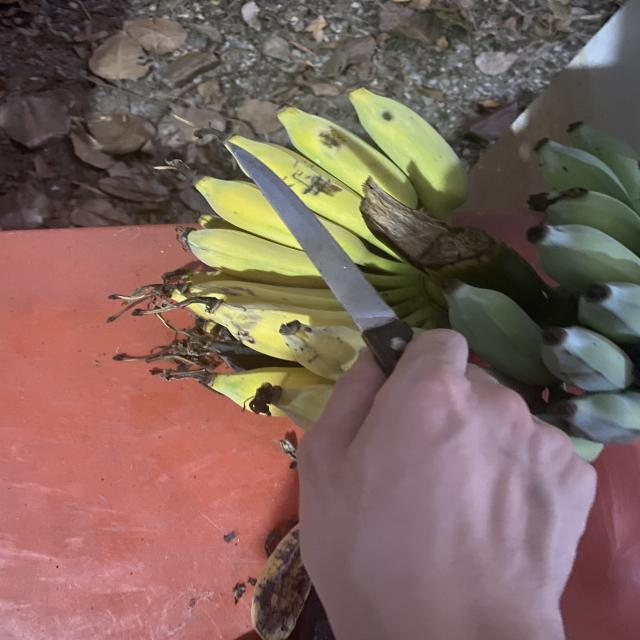faca: (210, 126, 594, 574)
